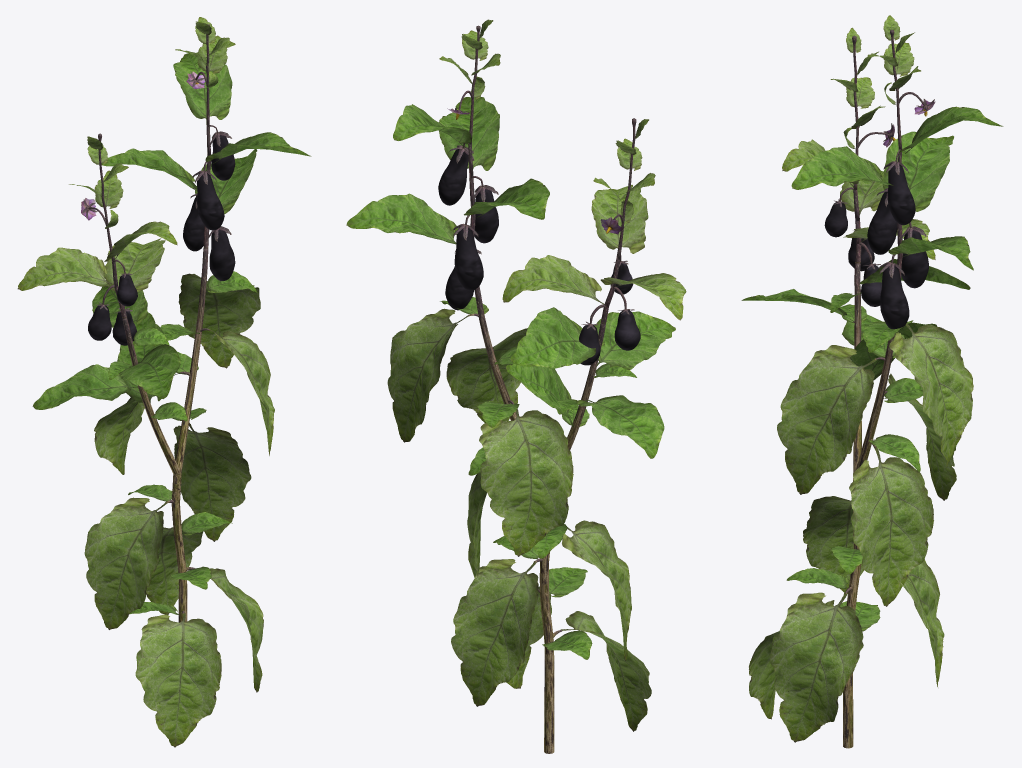
3 renders of one model, left to right at view 1: azimuth 30°, elevation 25°; view 2: azimuth 150°, elevation 25°; view 3: azimuth 270°, elevation 25°, orthographic. The views are drawn at different scales.
Visible parts, largest first — view 1: VG19_7; view 2: VG19_7; view 3: VG19_7.
Part boxes in pixels (x1,y1,x2,y2): VG19_7: (17, 17, 311, 747); VG19_7: (346, 19, 686, 753); VG19_7: (741, 15, 1003, 748).
Size of the model in its own units: 0.3776 by 0.8478 by 0.2768.
Materials: 9 (9 with a texture image).
